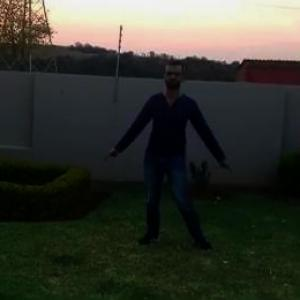land: (111, 49, 246, 274)
